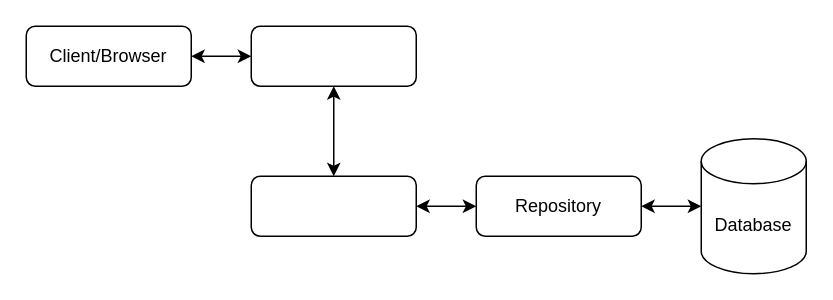
The diagram is 833 pixels wide and 300 high, and some of its shapes have lost their labels. The shapes that lost their labels are listed below. From the top down, each one's box as (x1, y1, x2, y2) in pixels, then its label:
(250, 25, 416, 86): Frontend
(250, 175, 416, 236): Controller
